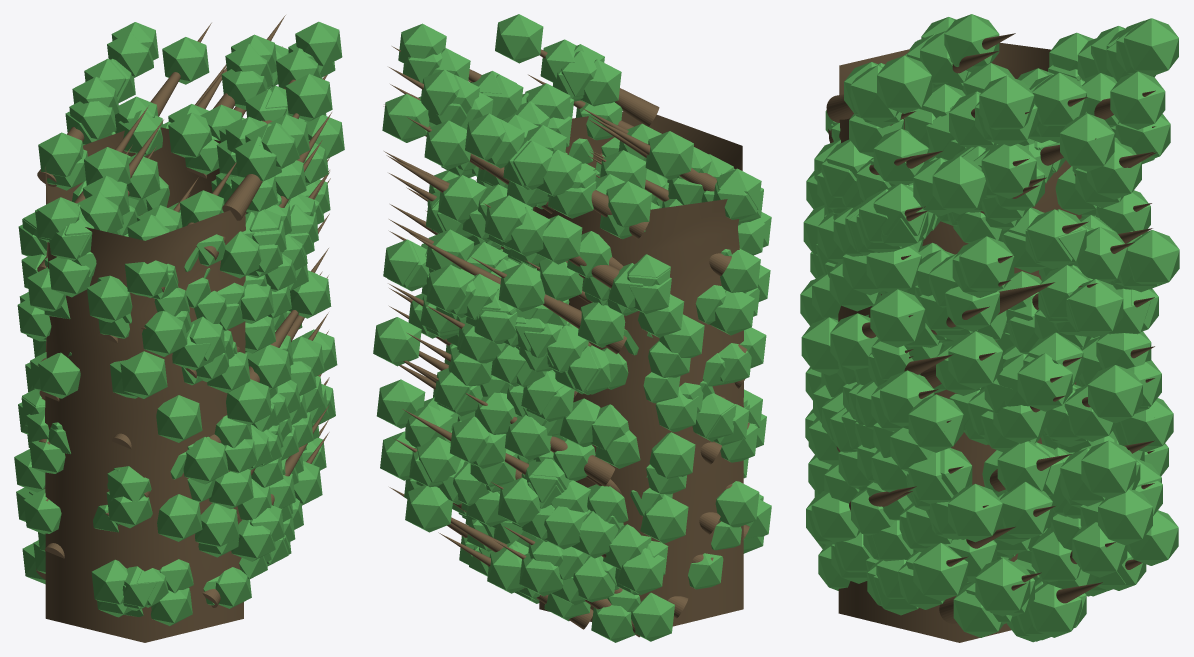
The model's file is tree_var_9057.glb.
3 views of the same model, side by side, from view 1: azimuth 30°, elevation 25°; view 2: azimuth 150°, elevation 25°; view 3: azimuth 270°, elevation 25° (orthographic). The views are drawn at different scales.
Visible parts, largest first — view 1: tree_var_9057; view 2: tree_var_9057; view 3: tree_var_9057.
Part boxes in pixels (box(x1,y1,x2,y2)): tree_var_9057: box(14, 15, 344, 642); tree_var_9057: box(373, 14, 771, 642); tree_var_9057: box(800, 14, 1179, 642).
Size of the model in its own units: 3.37 by 5.06 by 2.72.
